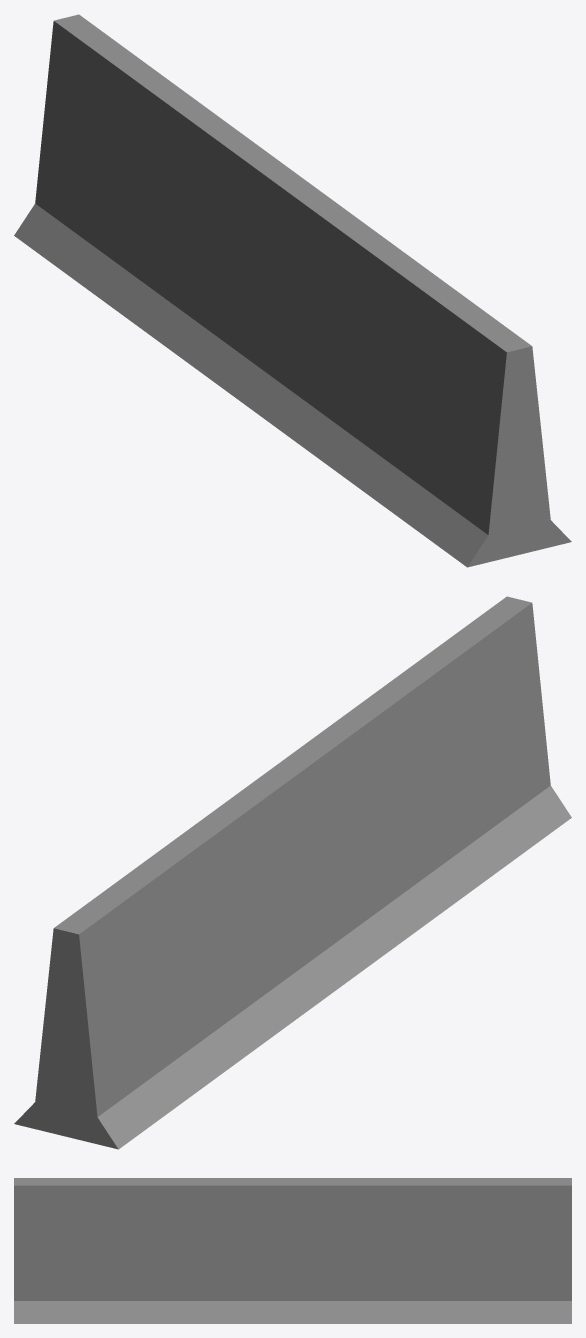
Rendered from RoadPart_01.glb.
3 views of the same model, one above another, from view 1: azimuth 30°, elevation 25°; view 2: azimuth 150°, elevation 25°; view 3: azimuth 270°, elevation 25° (orthographic). The views are drawn at different scales.
Visible parts, largest first — view 1: RoadPart_01; view 2: RoadPart_01; view 3: RoadPart_01.
Boxes of the visible parts, left/top/right/bottom form: RoadPart_01: left=14, top=14, right=571, bottom=567; RoadPart_01: left=14, top=596, right=571, bottom=1149; RoadPart_01: left=14, top=1178, right=571, bottom=1323.
Bounding box in the file's own units: 0.4 × 0.75 × 3.
Materials: 1 (1 with a texture image).
